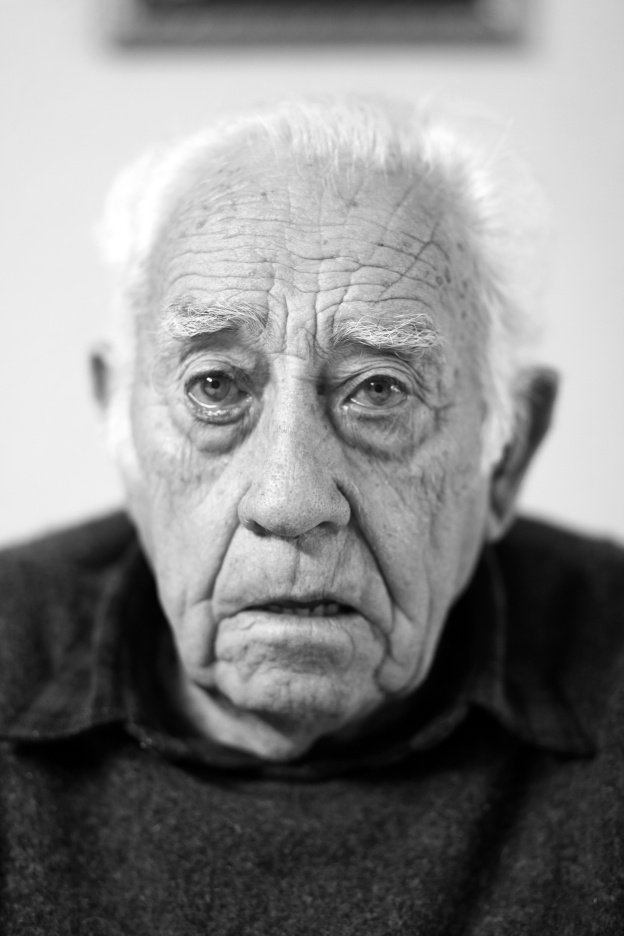Forehead: (163, 165, 449, 330)
